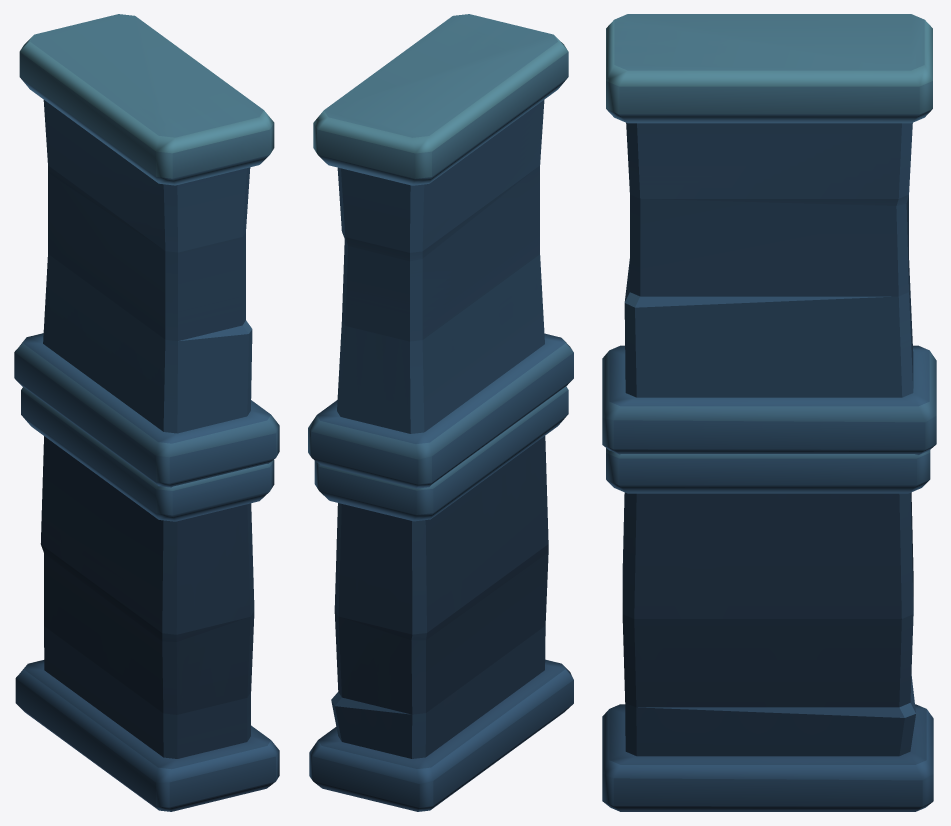
The model's file is pillar_narrow_2.fbx.
The picture shows the model from 3 angles, left to right: view 1: azimuth 30°, elevation 25°; view 2: azimuth 150°, elevation 25°; view 3: azimuth 270°, elevation 25°; orthographic projection. The views are drawn at different scales.
Parts seen in each view (by area): view 1: pillar_narrow_2; view 2: pillar_narrow_2; view 3: pillar_narrow_2.
Part boxes in pixels (<box>): pillar_narrow_2: <box>14,14,279,811</box>; pillar_narrow_2: <box>308,14,573,811</box>; pillar_narrow_2: <box>602,14,936,811</box>.
Bounding box in the file's own units: 80.07 × 415 × 170.
